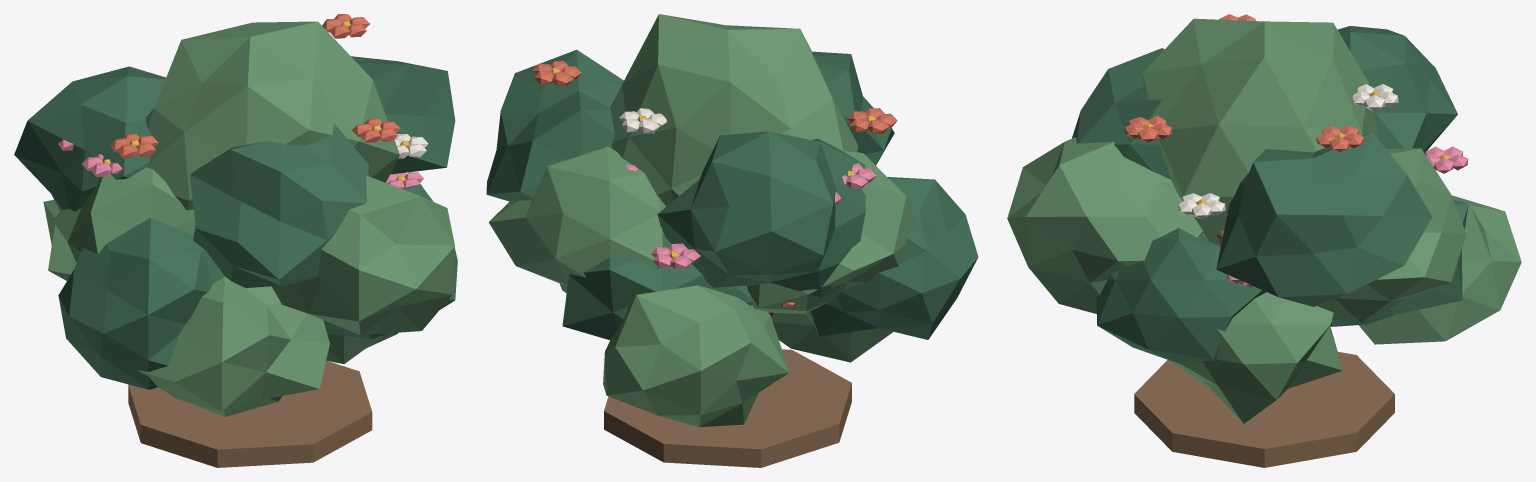
File: PLANT_03.obj
3 renders of one model, left to right at view 1: azimuth 30°, elevation 25°; view 2: azimuth 150°, elevation 25°; view 3: azimuth 270°, elevation 25°, orthographic. The views are drawn at different scales.
Parts seen in each view (by area): view 1: leaves, soil, flowers; view 2: leaves, soil, flowers; view 3: leaves, soil, flowers.
Boxes of the visible parts, x1,y1,x2,y2 form: leaves: (14,21,457,416); soil: (128,360,372,467); flowers: (58,14,428,188); leaves: (486,14,978,427); soil: (604,349,851,467); flowers: (532,61,897,308); leaves: (1007,18,1521,423); soil: (1134,352,1394,467); flowers: (1125,14,1468,287).
Bounding box in the file's own units: 1.87 × 1.66 × 1.97.
